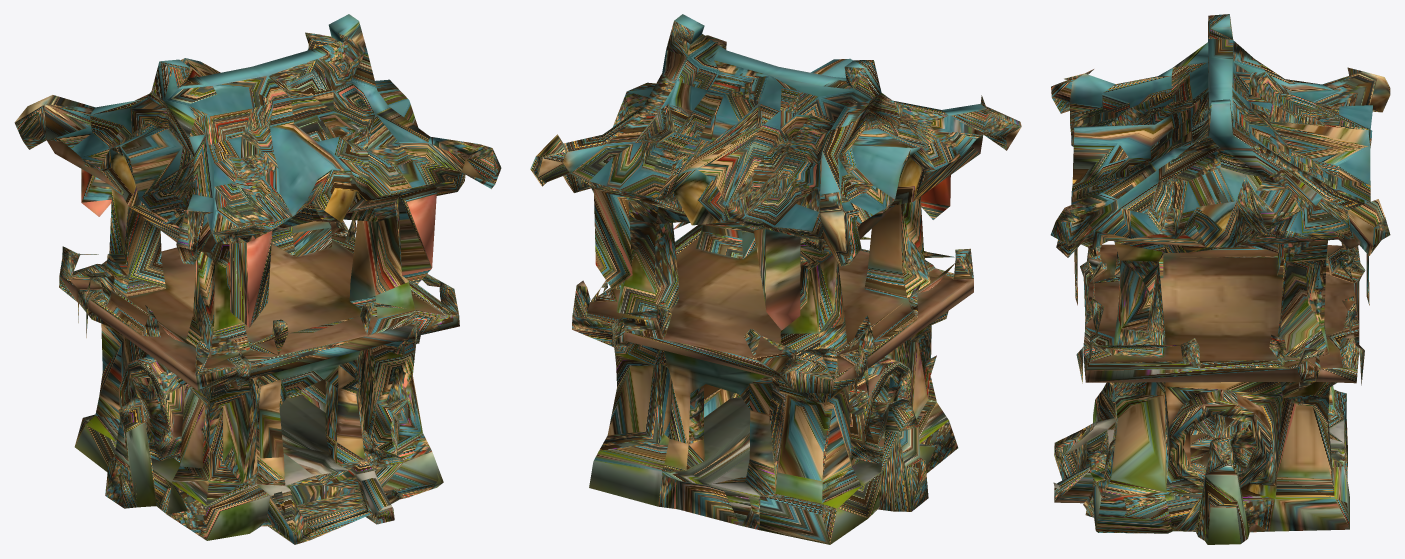
Rendered from fal-harbor-lite.glb.
3 views of the same model, side by side, from view 1: azimuth 30°, elevation 25°; view 2: azimuth 150°, elevation 25°; view 3: azimuth 270°, elevation 25° (orthographic). The views are drawn at different scales.
Parts seen in each view (by area): view 1: node_0; view 2: node_0; view 3: node_0.
Boxes of the visible parts, x1=… form: node_0: x1=14, y1=14, x2=501, y2=544; node_0: x1=530, y1=14, x2=1021, y2=544; node_0: x1=1050, y1=14, x2=1390, y2=544.
Bounding box in the file's own units: 0.7982 × 0.9986 × 0.7314.
Materials: 1 (1 with a texture image).
